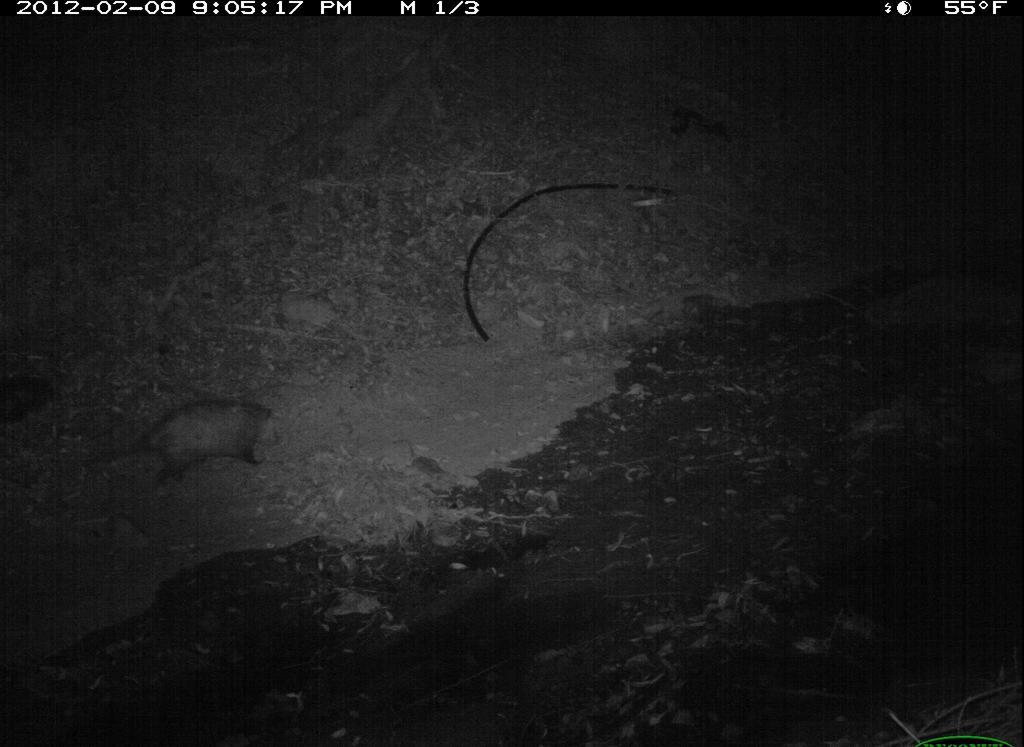opossum: (71, 393, 286, 486)
